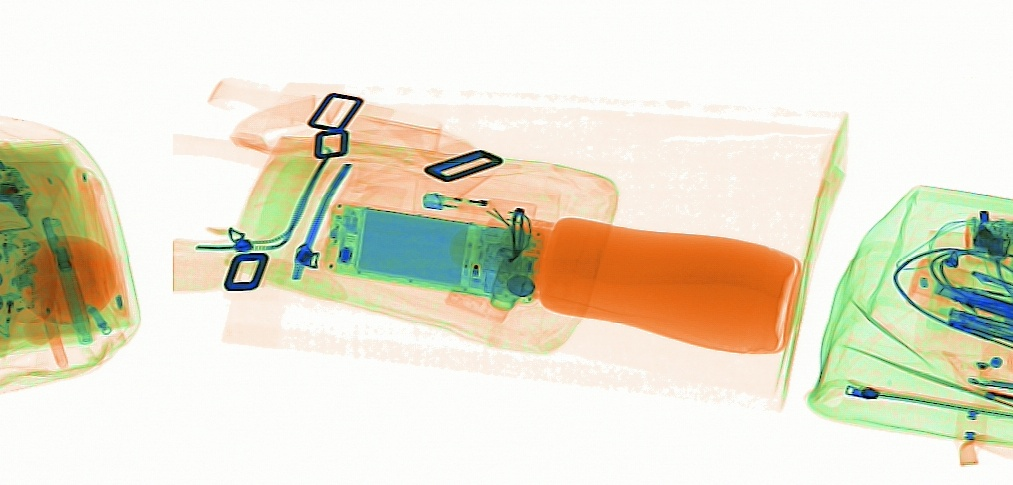lighter: (420, 189, 539, 226)
